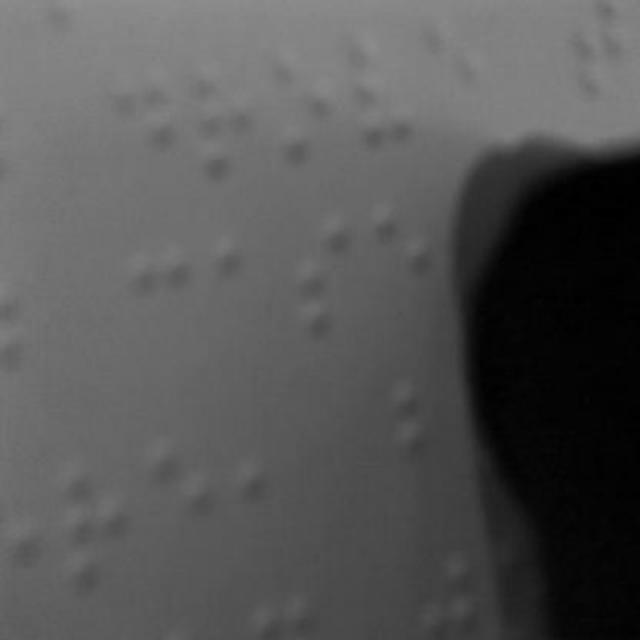braiile: (60, 454, 146, 594), (148, 428, 228, 574), (238, 412, 312, 552), (270, 43, 346, 179), (124, 229, 200, 365), (352, 19, 424, 154), (428, 14, 498, 150), (372, 192, 438, 332), (191, 59, 263, 185), (110, 62, 180, 185), (214, 223, 282, 349), (296, 212, 359, 338)
